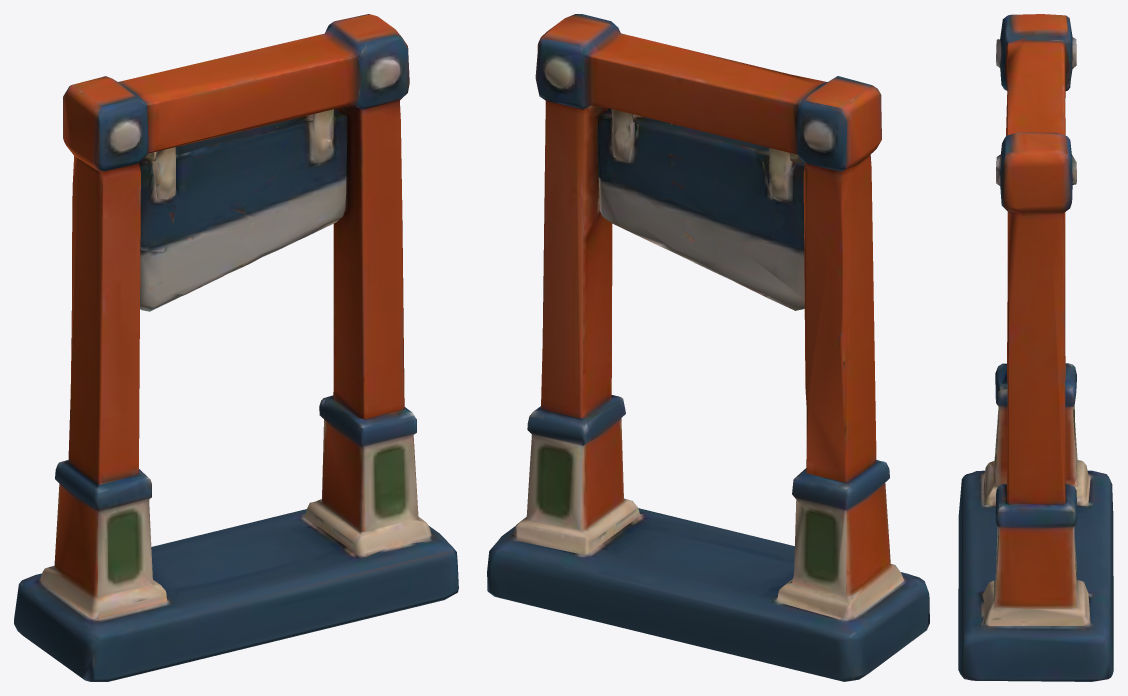
The model's file is oracolo.lod.glb.
3 renders of one model, left to right at view 1: azimuth 30°, elevation 25°; view 2: azimuth 150°, elevation 25°; view 3: azimuth 270°, elevation 25°, orthographic. The views are drawn at different scales.
Parts seen in each view (by area): view 1: textured_mesh.obj; view 2: textured_mesh.obj; view 3: textured_mesh.obj.
Part boxes in pixels (x1=…): textured_mesh.obj: x1=14, y1=14, x2=458, y2=681; textured_mesh.obj: x1=487, y1=14, x2=929, y2=681; textured_mesh.obj: x1=958, y1=14, x2=1113, y2=681.
Size of the model in its own units: 0.706 by 0.9972 by 0.2709.
Materials: 1 (1 with a texture image).
